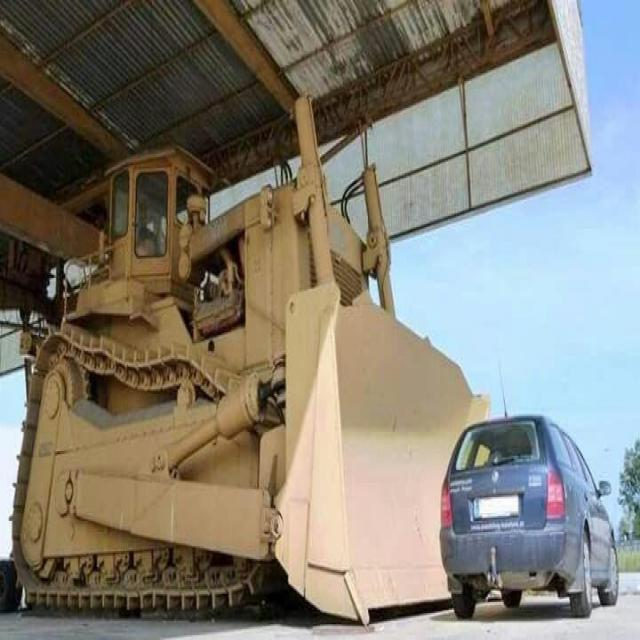Bulldozer: (17, 124, 504, 622)
